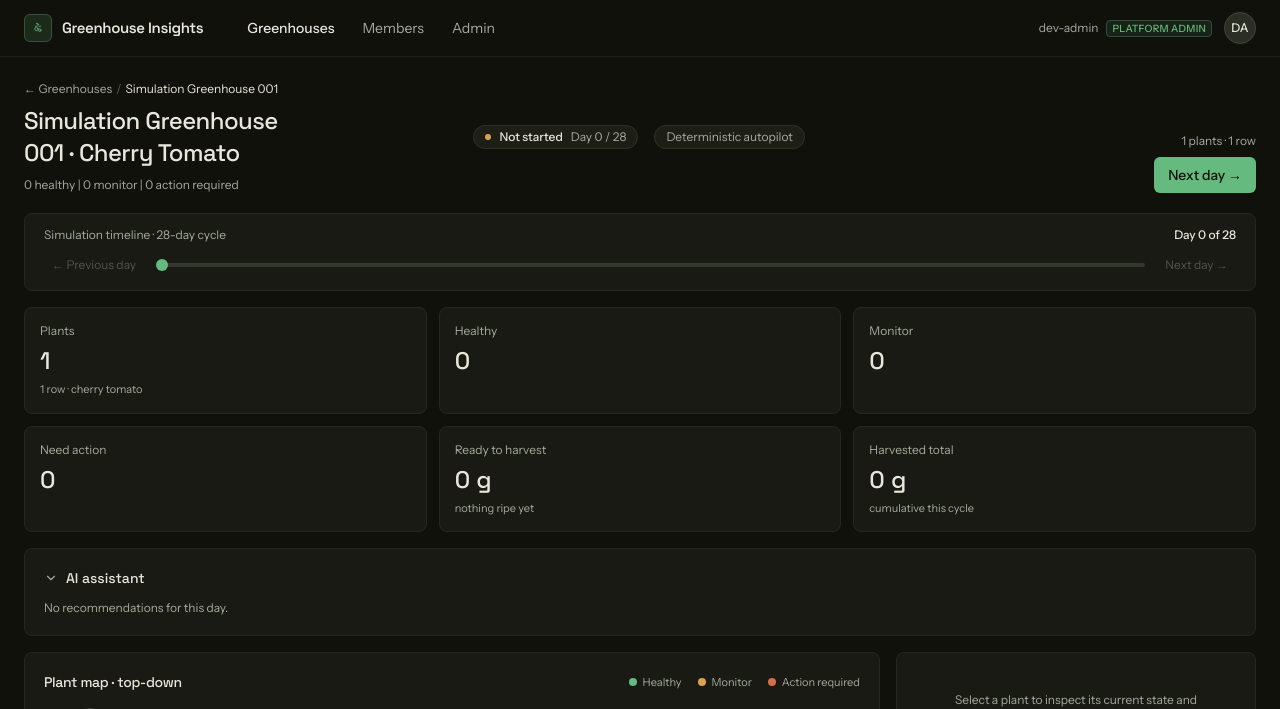
it: GreenhouseDashboardPage › next day shows a confirm prompt when recommendations are still pending, and proceeds when confirmed
The width and height of the screenshot is (1280, 709).
Click the button "Next day →" below "plants ·".
click(1205, 175)  # box [1154,157,1256,193]
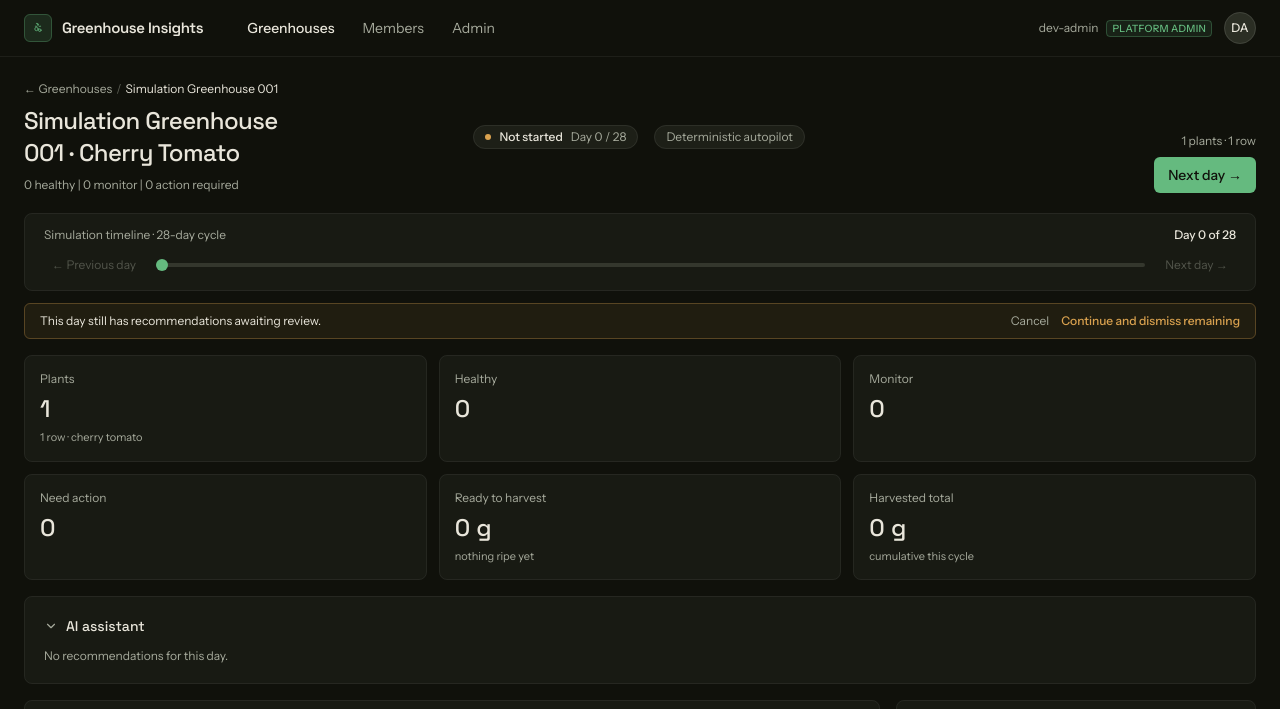
Click the button "Continue and dismiss remaining".
click(1151, 321)  # box [1061,313,1240,329]
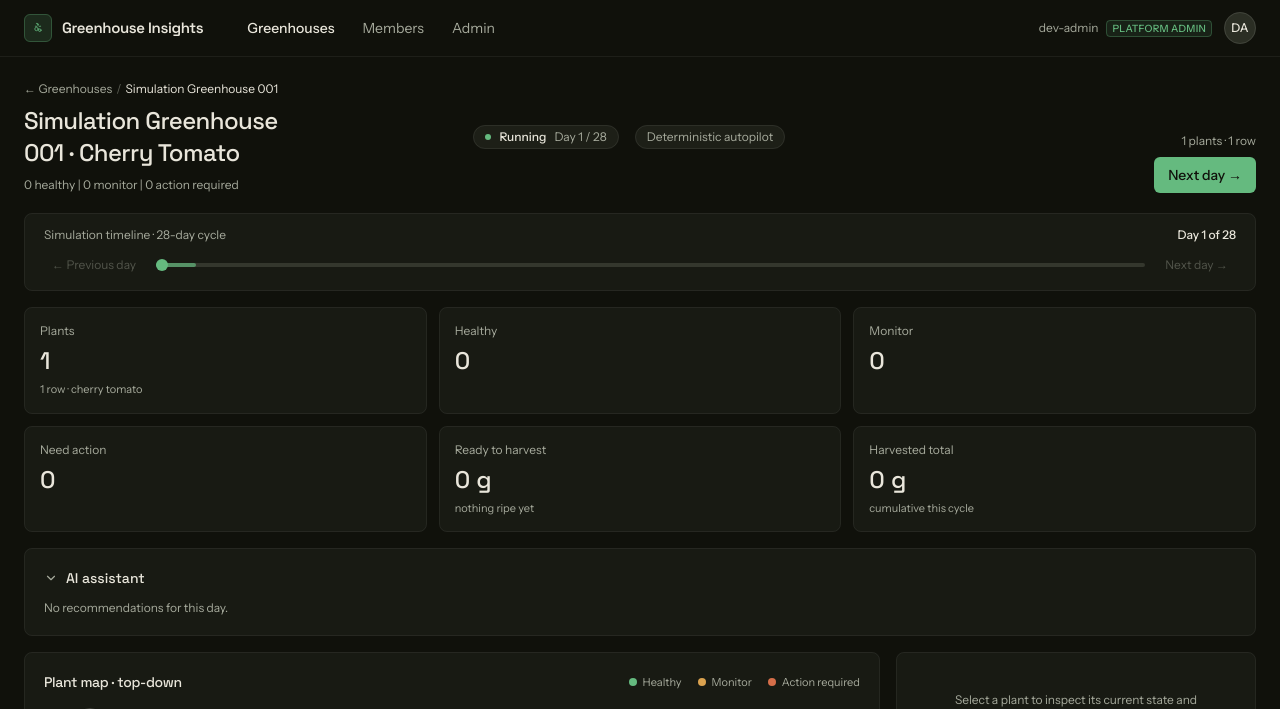
Result: the button "Continue and dismiss remaining" is gone
